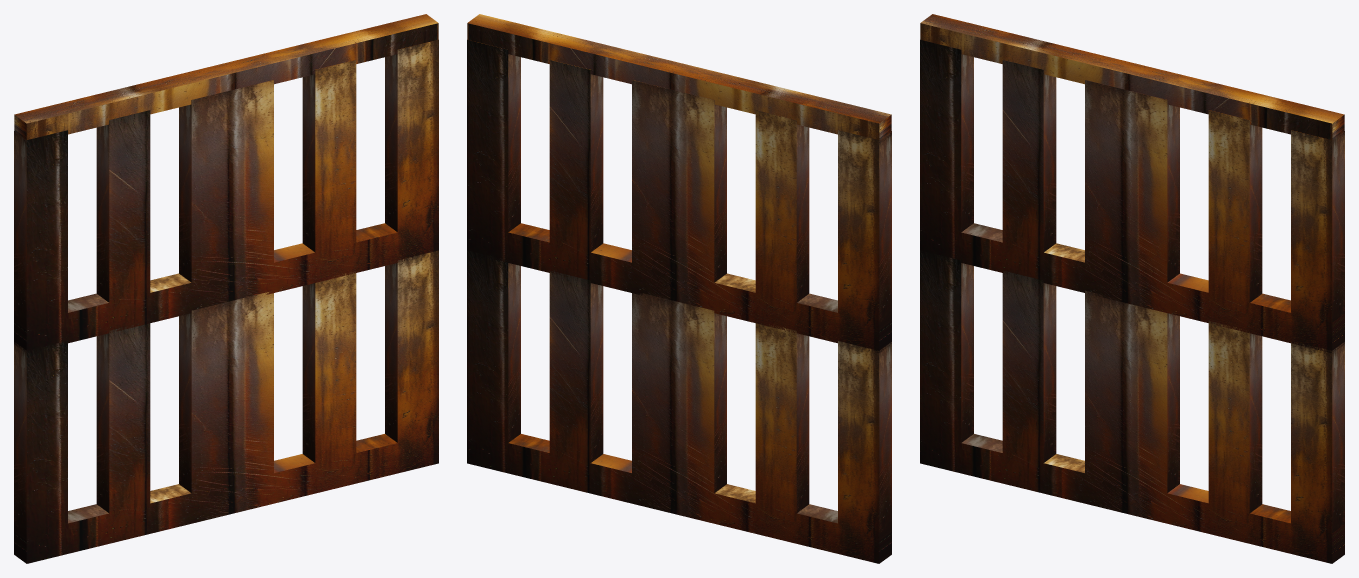
Rendered from Gate.fbx.
3 views of the same model, side by side, from view 1: azimuth 30°, elevation 25°; view 2: azimuth 150°, elevation 25°; view 3: azimuth 330°, elevation 25° (orthographic).
Visible parts, largest first — view 1: Cube.001; view 2: Cube.001; view 3: Cube.001.
Boxes of the visible parts, box(x1,y1,x2,y2) form: Cube.001: box(14, 14, 438, 563); Cube.001: box(467, 14, 891, 563); Cube.001: box(920, 14, 1344, 563).
Bounding box in the file's own units: 182 × 186 × 9.74.
Materials: 2 (2 with a texture image).
